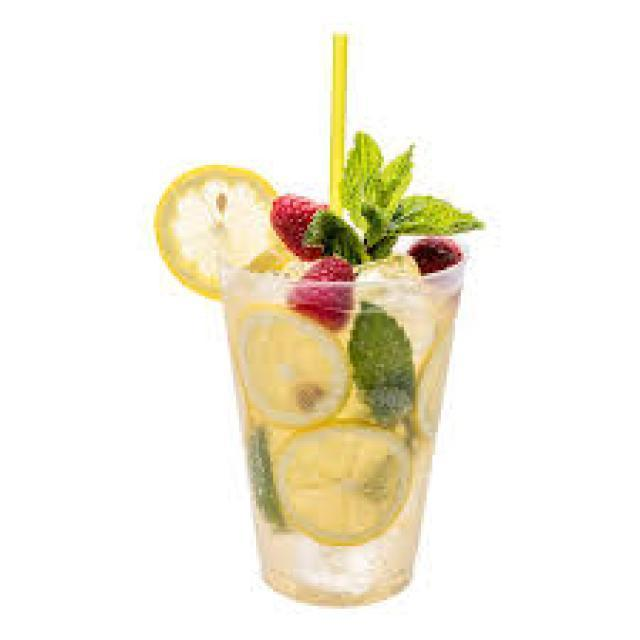cup: (203, 224, 478, 626)
